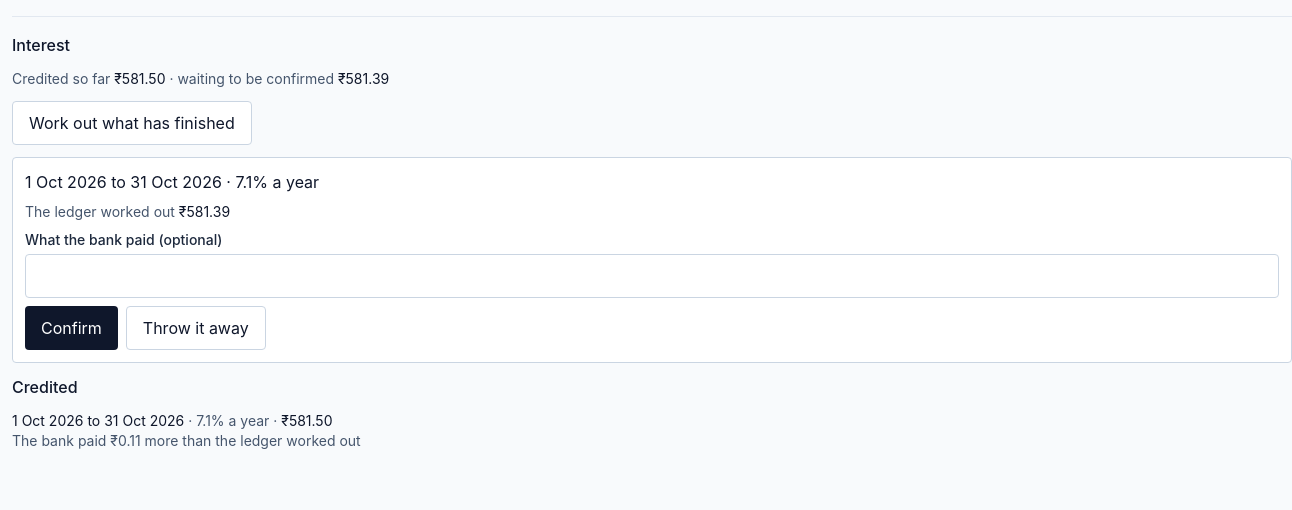
Scenario: InterestPanel › shows a refusal from the server on the period it belongs to
Expected: the text "Credited so far ₹581.50 · waiting to be confirmed ₹581.39" is shown, [12,70,389,87]
Click the button "Confirm" at x=71, y=328, box [25,306,118,350]
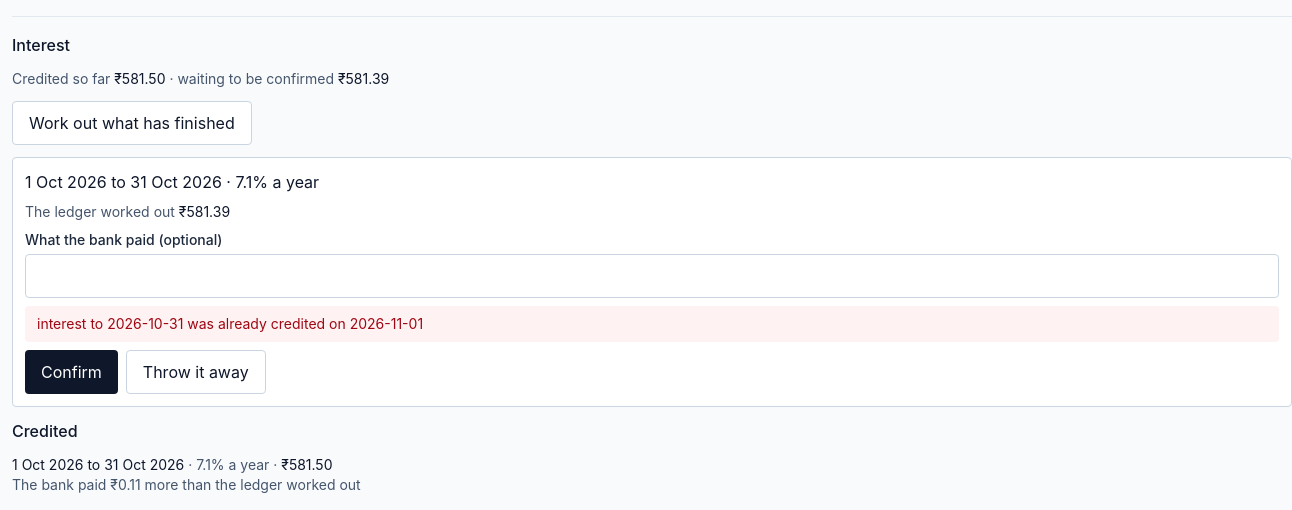
Now the message shows "already credited on 2026-11-01", box [37,315,423,332]
